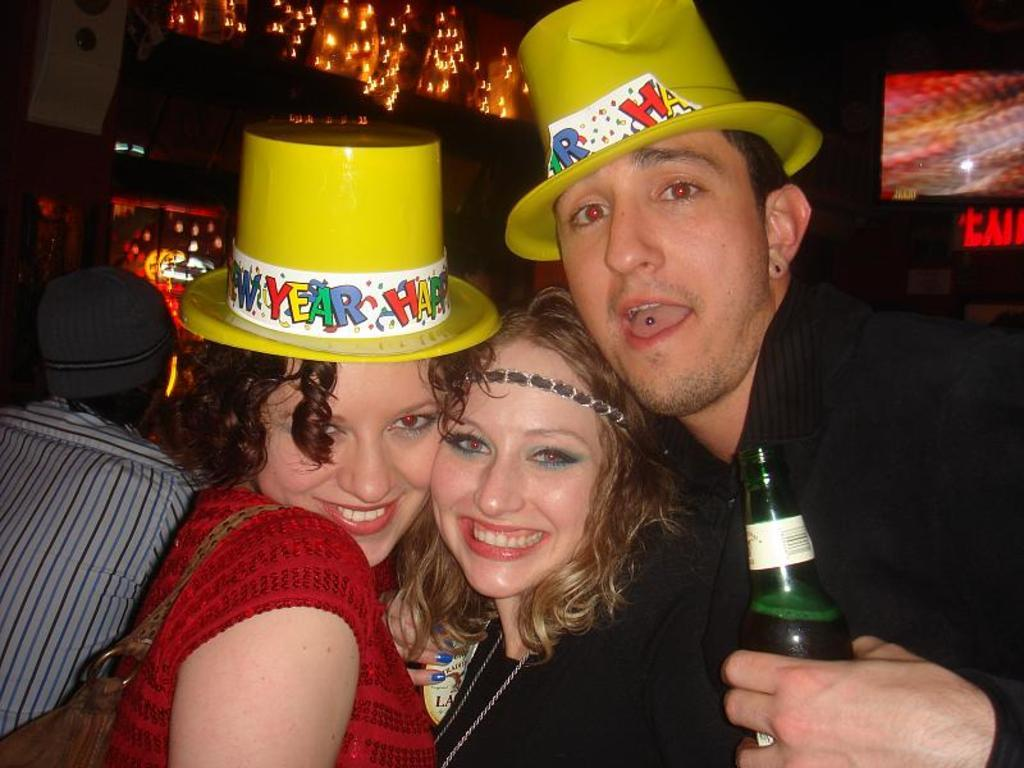Hat: (502, 0, 822, 263), (176, 118, 502, 364)
